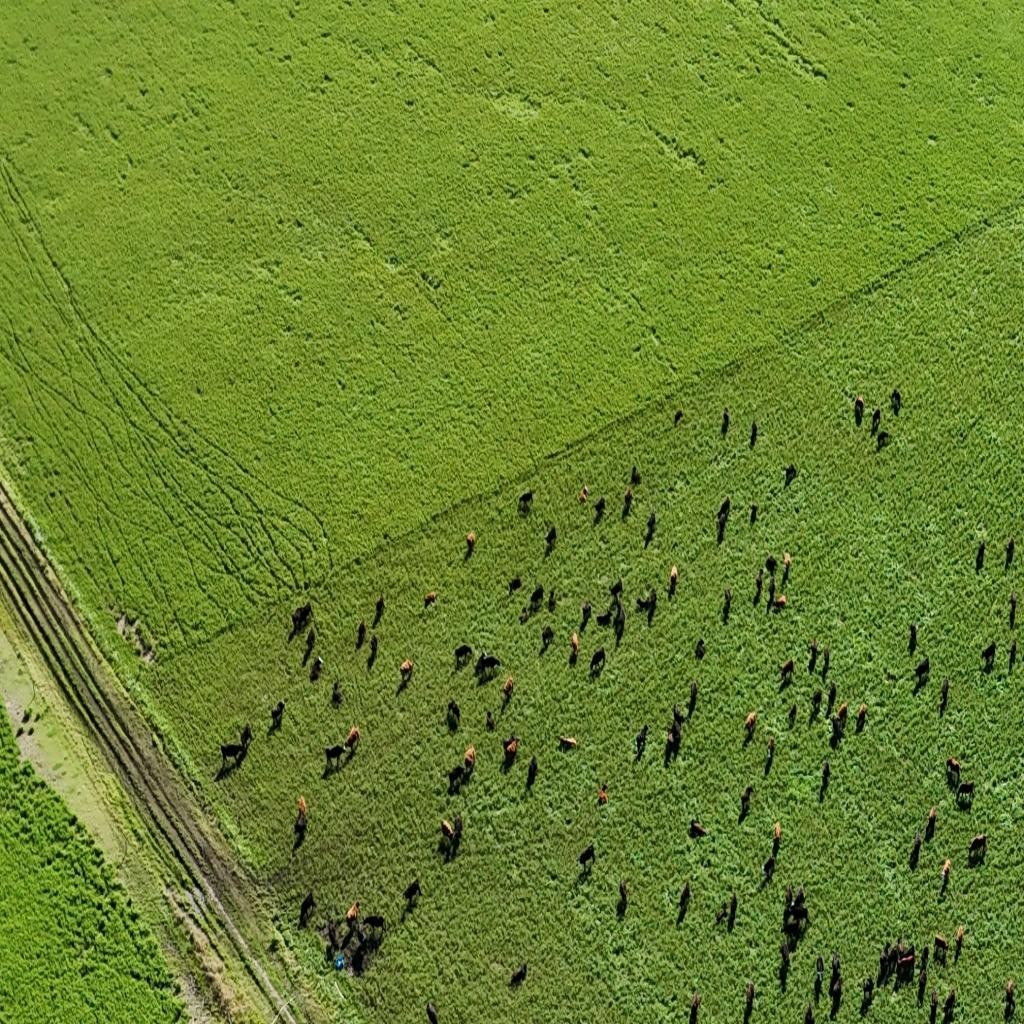cow: (785, 900, 809, 932), (340, 916, 362, 950), (220, 740, 246, 768), (362, 913, 386, 943), (350, 934, 368, 972), (474, 652, 500, 678), (291, 602, 312, 634), (323, 918, 341, 954), (896, 945, 915, 979), (299, 891, 315, 926), (956, 776, 976, 804), (577, 843, 595, 873), (403, 878, 421, 908), (325, 744, 345, 771), (295, 797, 308, 838), (968, 834, 988, 860), (878, 942, 892, 978), (636, 591, 656, 615), (269, 699, 285, 729), (448, 765, 466, 791), (914, 656, 930, 685), (344, 725, 360, 753), (981, 640, 996, 668), (454, 643, 472, 666), (590, 648, 605, 675), (934, 933, 949, 960), (614, 596, 625, 632), (830, 982, 841, 1018), (440, 818, 455, 844), (346, 899, 361, 925), (510, 963, 526, 987), (526, 755, 538, 787), (635, 726, 647, 758), (669, 724, 681, 756), (761, 855, 775, 882), (943, 987, 955, 1018), (744, 986, 754, 1023), (579, 602, 592, 630), (503, 735, 518, 759), (303, 626, 315, 656), (779, 658, 794, 682), (518, 490, 534, 512), (689, 992, 700, 1024), (1004, 988, 1015, 1020), (1008, 639, 1018, 674), (780, 954, 790, 989), (240, 722, 252, 751), (690, 819, 708, 838), (665, 733, 676, 764), (447, 700, 460, 726), (792, 884, 805, 910), (596, 607, 612, 628), (452, 814, 463, 844), (368, 633, 378, 666), (830, 953, 841, 983), (718, 496, 730, 523), (1009, 600, 1018, 636), (918, 967, 927, 1003), (530, 584, 544, 607), (940, 676, 949, 711), (811, 689, 823, 715), (464, 745, 476, 771), (740, 786, 752, 812), (332, 680, 344, 706), (715, 901, 728, 925), (911, 832, 921, 863), (560, 733, 578, 750), (1005, 538, 1015, 568), (780, 938, 790, 968), (680, 881, 690, 911), (919, 944, 929, 974), (541, 625, 554, 648), (831, 715, 842, 742), (753, 571, 762, 604), (854, 394, 864, 423), (976, 540, 986, 569), (668, 566, 678, 595), (672, 702, 684, 726), (765, 742, 774, 774), (862, 977, 873, 1003), (609, 576, 623, 596), (876, 430, 890, 450), (356, 617, 366, 645), (809, 637, 820, 662), (871, 407, 881, 434), (618, 878, 628, 905), (723, 587, 732, 617), (821, 760, 830, 790), (784, 463, 796, 485), (426, 1002, 438, 1024), (689, 679, 697, 712), (765, 555, 777, 577), (400, 658, 412, 680), (729, 891, 737, 924), (836, 702, 848, 724), (941, 858, 951, 884), (828, 682, 836, 714), (784, 882, 792, 914), (718, 510, 726, 542), (908, 622, 916, 653), (930, 987, 938, 1018), (815, 965, 823, 996), (594, 496, 606, 516), (891, 389, 901, 413), (375, 594, 385, 618), (744, 712, 756, 732), (310, 656, 322, 676), (1017, 636, 1024, 670), (767, 586, 775, 615), (750, 419, 758, 447), (508, 576, 521, 593), (695, 638, 705, 660), (546, 524, 556, 546), (646, 511, 656, 533), (503, 675, 513, 697), (486, 710, 496, 732), (804, 1002, 814, 1024), (927, 806, 937, 828), (617, 892, 626, 916), (722, 408, 730, 434), (774, 594, 787, 610), (569, 638, 577, 664), (630, 464, 640, 484), (788, 703, 797, 725), (822, 647, 829, 675), (424, 590, 436, 606), (816, 954, 824, 978), (466, 531, 476, 550), (520, 606, 530, 624), (598, 784, 607, 804), (750, 503, 758, 525), (548, 589, 556, 611), (783, 551, 791, 573), (956, 924, 964, 946), (624, 486, 633, 504), (858, 703, 867, 721), (774, 820, 781, 842), (580, 485, 588, 504), (767, 735, 775, 754), (674, 410, 683, 426)
